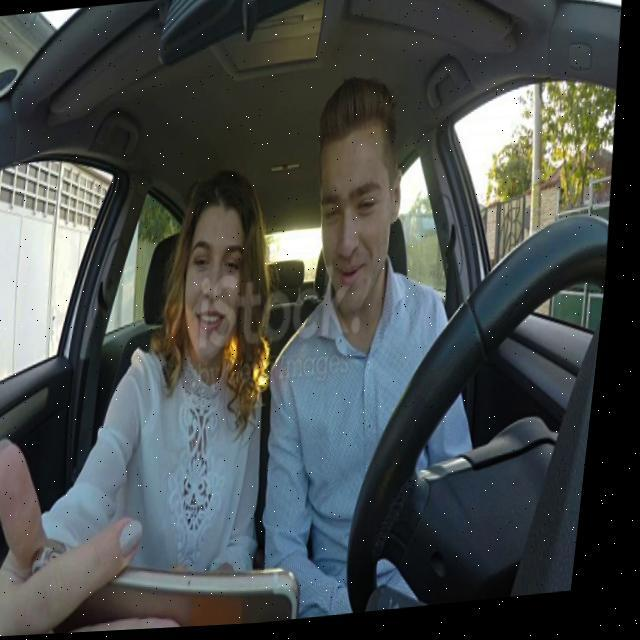PhoneCall: (37, 521, 326, 636)
